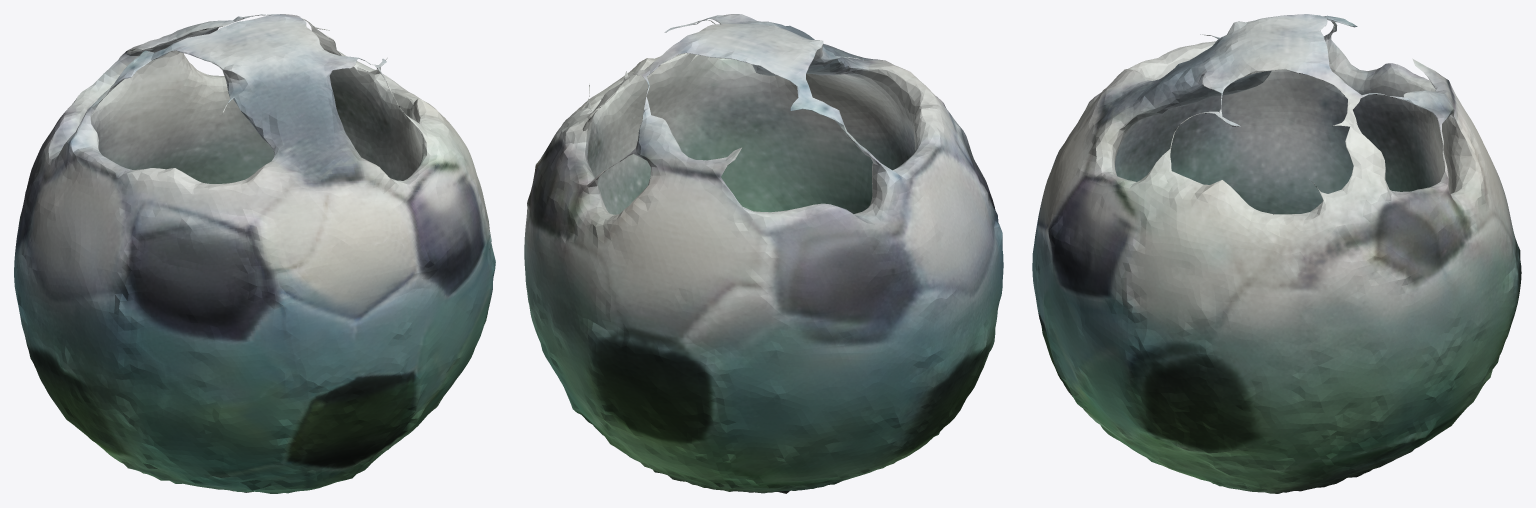
Rendered from sock.glb.
3 views of the same model, side by side, from view 1: azimuth 30°, elevation 25°; view 2: azimuth 150°, elevation 25°; view 3: azimuth 270°, elevation 25° (orthographic).
Size of the model in its own units: 0.5984 by 0.594 by 0.6064.
1 material, 1 textured.
